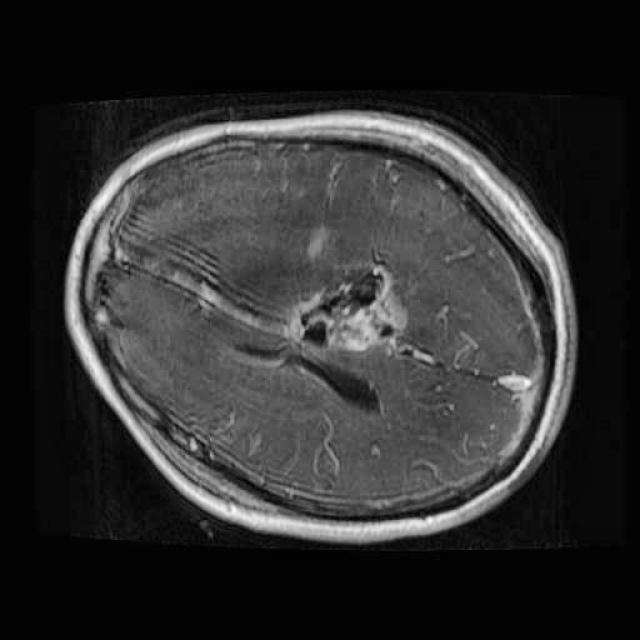Non-Tumor: (282, 253, 412, 371)
